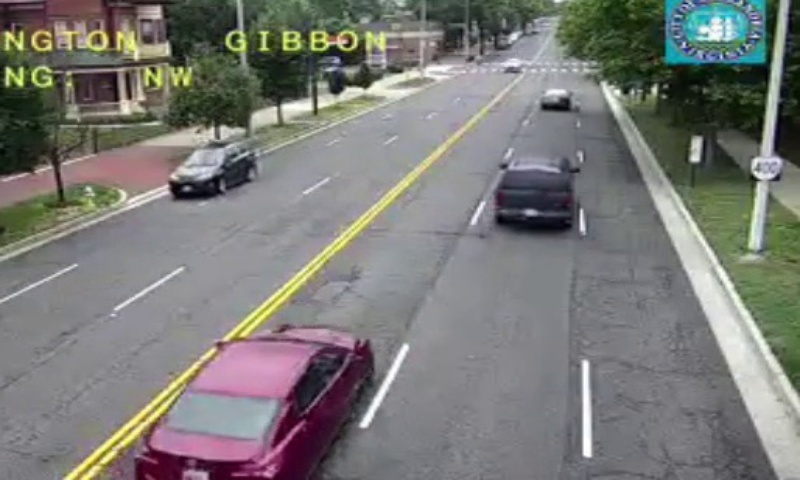car: (133, 325, 370, 480), (496, 159, 572, 223), (540, 87, 571, 111)
